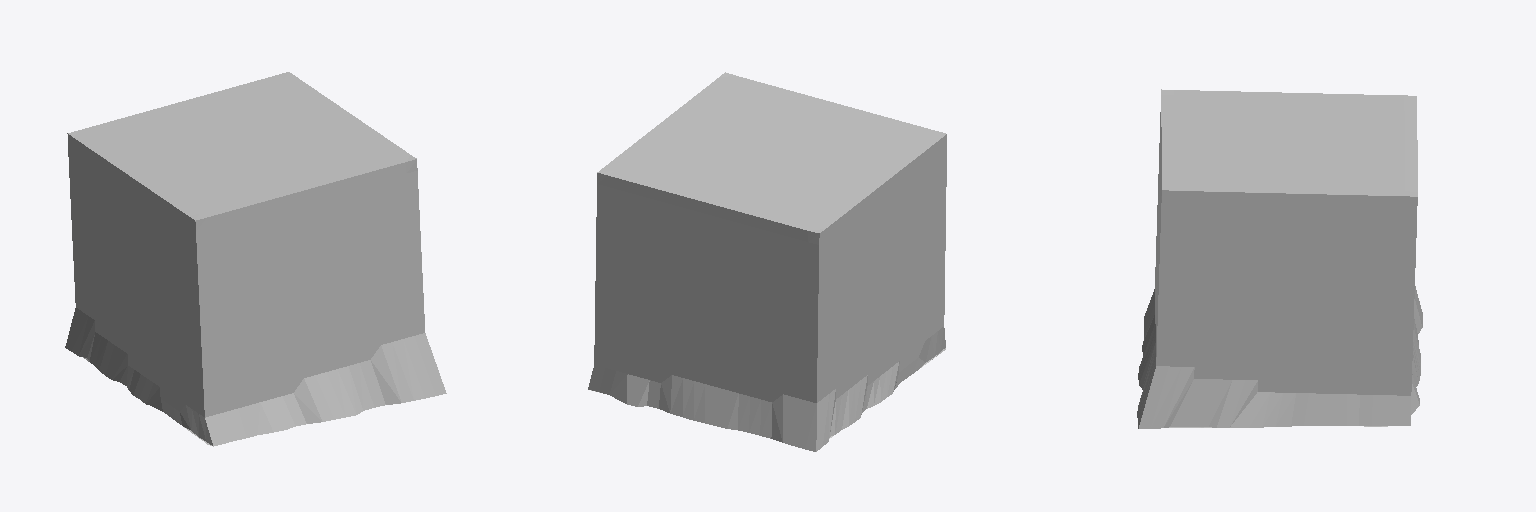
The model's file is mod0002.obj.
3 views of the same model, side by side, from view 1: azimuth 30°, elevation 25°; view 2: azimuth 150°, elevation 25°; view 3: azimuth 270°, elevation 25° (orthographic).
Parts seen in each view (by area): view 1: Box001; view 2: Box001; view 3: Box001.
Boxes of the visible parts, <box> form: Box001: <box>65,72,446,446</box>; Box001: <box>588,72,946,451</box>; Box001: <box>1137,89,1422,428</box>.
Bounding box in the file's own units: 0.581 × 0.5343 × 0.5979.